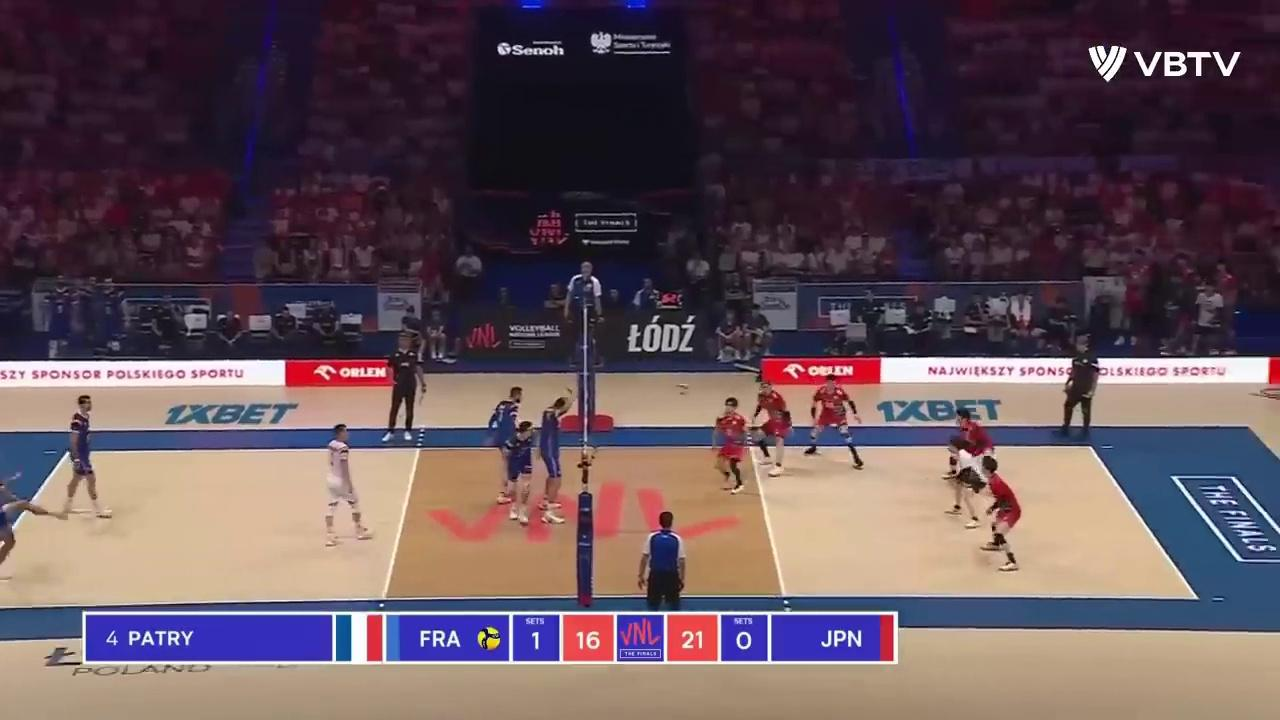ball: (676, 383, 690, 396)
